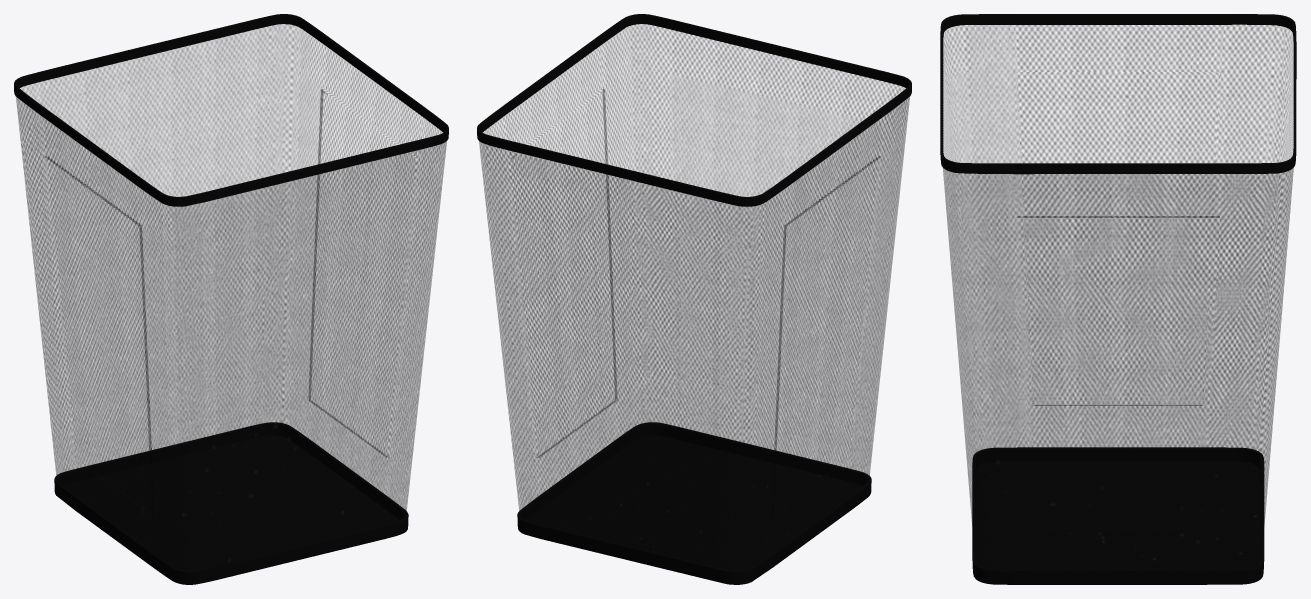
Rendered from dronjons_kosz_na_odpady_70501843.glb.
The picture shows the model from 3 angles, left to right: view 1: azimuth 30°, elevation 25°; view 2: azimuth 150°, elevation 25°; view 3: azimuth 270°, elevation 25°; orthographic projection. The views are drawn at different scales.
Parts seen in each view (by area): view 1: dronjons_kosz_na_odpady_70501843; view 2: dronjons_kosz_na_odpady_70501843; view 3: dronjons_kosz_na_odpady_70501843.
Boxes of the visible parts, box(x1,y1,x2,y2) form: dronjons_kosz_na_odpady_70501843: box(14, 14, 448, 584); dronjons_kosz_na_odpady_70501843: box(477, 14, 911, 584); dronjons_kosz_na_odpady_70501843: box(940, 14, 1296, 584).
Bounding box in the file's own units: 0.26 × 0.35 × 0.26.
Materials: 2 (2 with a texture image).
